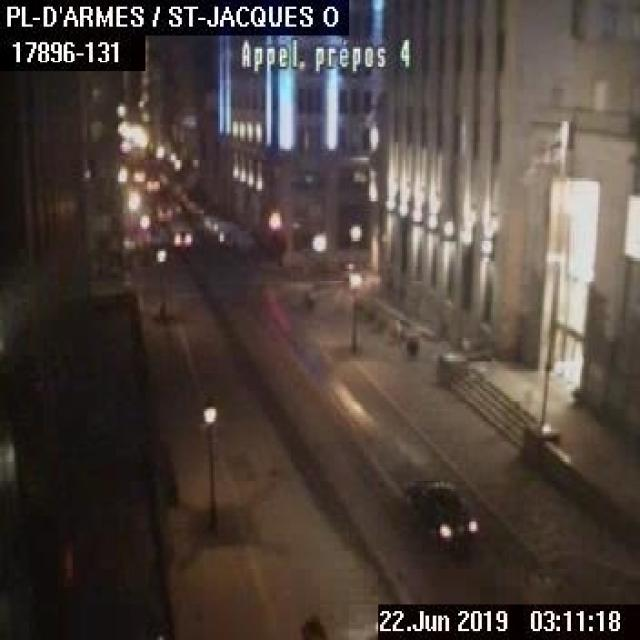vehicle: (402, 476, 477, 546), (171, 229, 192, 247), (217, 228, 233, 248), (145, 176, 159, 192), (130, 169, 144, 182)
